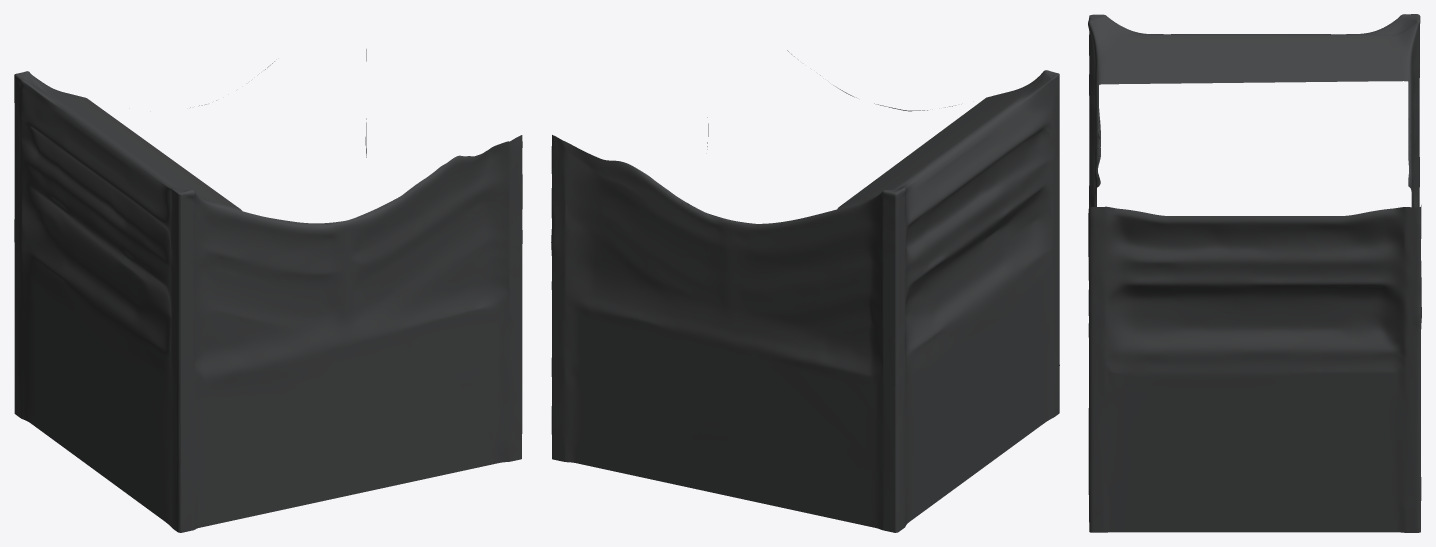
File: SM_WM00216_Wrapped_Boxes_7_Plastic.glb
The picture shows the model from 3 angles, left to right: view 1: azimuth 30°, elevation 25°; view 2: azimuth 150°, elevation 25°; view 3: azimuth 270°, elevation 25°; orthographic projection.
Visible parts, largest first — view 1: SM_WM00216_Wrapped_Boxes_7_Plastic; view 2: SM_WM00216_Wrapped_Boxes_7_Plastic; view 3: SM_WM00216_Wrapped_Boxes_7_Plastic.
Part boxes in pixels (box(x1,y1,x2,y2)): SM_WM00216_Wrapped_Boxes_7_Plastic: box(14, 49, 522, 532); SM_WM00216_Wrapped_Boxes_7_Plastic: box(551, 50, 1059, 532); SM_WM00216_Wrapped_Boxes_7_Plastic: box(1088, 14, 1421, 532).
Bounding box in the file's own units: 1.24 × 1.19 × 1.03.
1 material, 1 textured.
